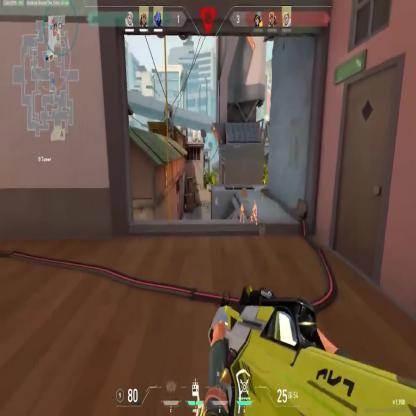enemy: (250, 202, 258, 226), (240, 204, 245, 223)
enemy_head: (254, 202, 257, 206), (241, 204, 243, 208)
